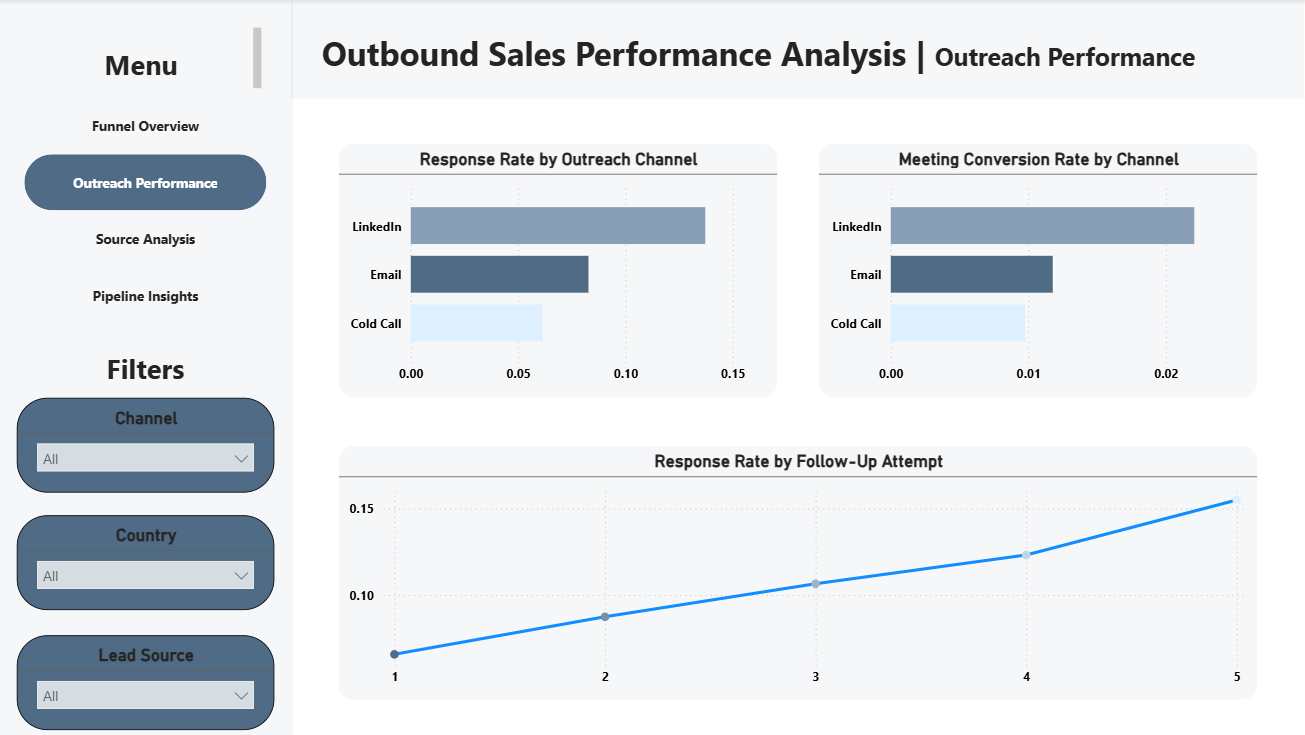

This screenshot's page, from the dashboard's own definition file:
{"tool":"powerbi","page":{"name":"Outreach Performance","canvas":[1280,720],"ordinal":1},"visuals":[{"type":"barChart","title":"Response Rate by Outreach Channel","fields":{"Category":["outbound_sales outreach_activity.channel"],"Y":["outbound_sales lead_funnel_status.Response Rate %"]},"box":[332.6,140.6,430,249.5],"z":0},{"type":"barChart","title":"Meeting Conversion Rate by Channel","fields":{"Y":["outbound_sales lead_funnel_status.Meeting Conversion %"],"Category":["outbound_sales outreach_activity.channel"]},"box":[802.2,140.6,430.4,249.5],"z":1000},{"type":"lineChart","title":"Response Rate by Follow-Up Attempt","fields":{"Y":["outbound_sales lead_funnel_status.Response Rate %"],"Category":["outbound_sales outreach_activity.attempt_number"]},"box":[332.6,436.6,900,249.5],"z":2000},{"type":"shape","box":[0,0,288.6,720.2],"z":3000},{"type":"slicer","title":"Country","fields":{"Values":["outbound_sales leads_master.country"]},"box":[18.3,505,251.9,92.9],"z":4000},{"type":"slicer","title":"Lead Source","fields":{"Values":["outbound_sales leads_master.lead_source"]},"box":[18.3,622.4,251.9,92.9],"z":5000},{"type":"slicer","title":"Channel","fields":{"Values":["outbound_sales outreach_activity.channel"]},"box":[18.3,390.1,251.9,92.9],"z":6000},{"type":"pageNavigator","box":[25.7,97.1,237.1,222.9],"z":7000},{"type":"textbox","box":[25.7,22.9,237.1,74.3],"z":8000},{"type":"textbox","box":[25.7,320,237.1,70],"z":9000},{"type":"shape","box":[286.1,0,991.7,97.8],"z":10000},{"type":"textbox","box":[311.8,8.6,944,74.6],"z":11000}]}

Visuals, with their boxes on the page's 1280x720 design canvas (x1, y1, x2, y2). These are canvas units, not pixel positions in the 1305x735 screenshot, which may show the page scaled, cropped or inside an application window:
"Response Rate by Outreach Channel" barChart: [333, 141, 763, 390]
"Meeting Conversion Rate by Channel" barChart: [802, 141, 1233, 390]
"Response Rate by Follow-Up Attempt" lineChart: [333, 437, 1233, 686]
shape: [0, 0, 289, 720]
"Country" slicer: [18, 505, 270, 598]
"Lead Source" slicer: [18, 622, 270, 715]
"Channel" slicer: [18, 390, 270, 483]
pageNavigator: [26, 97, 263, 320]
textbox: [26, 23, 263, 97]
textbox: [26, 320, 263, 390]
shape: [286, 0, 1278, 98]
textbox: [312, 9, 1256, 83]
